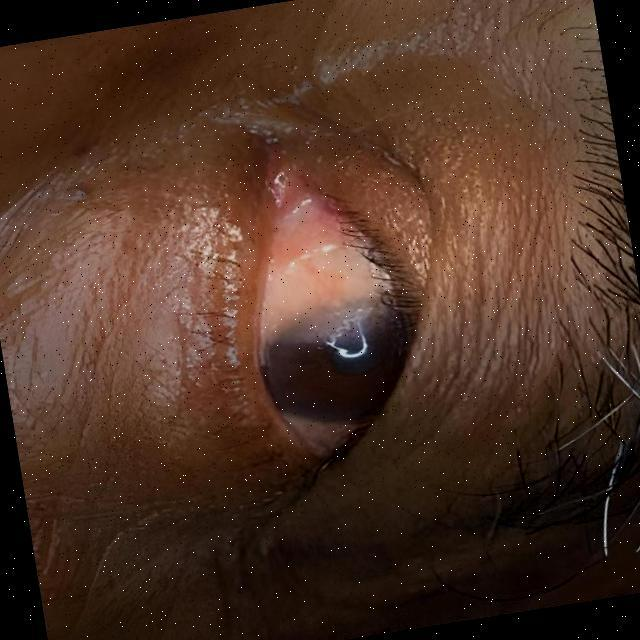Pterygium: (242, 163, 396, 371)
